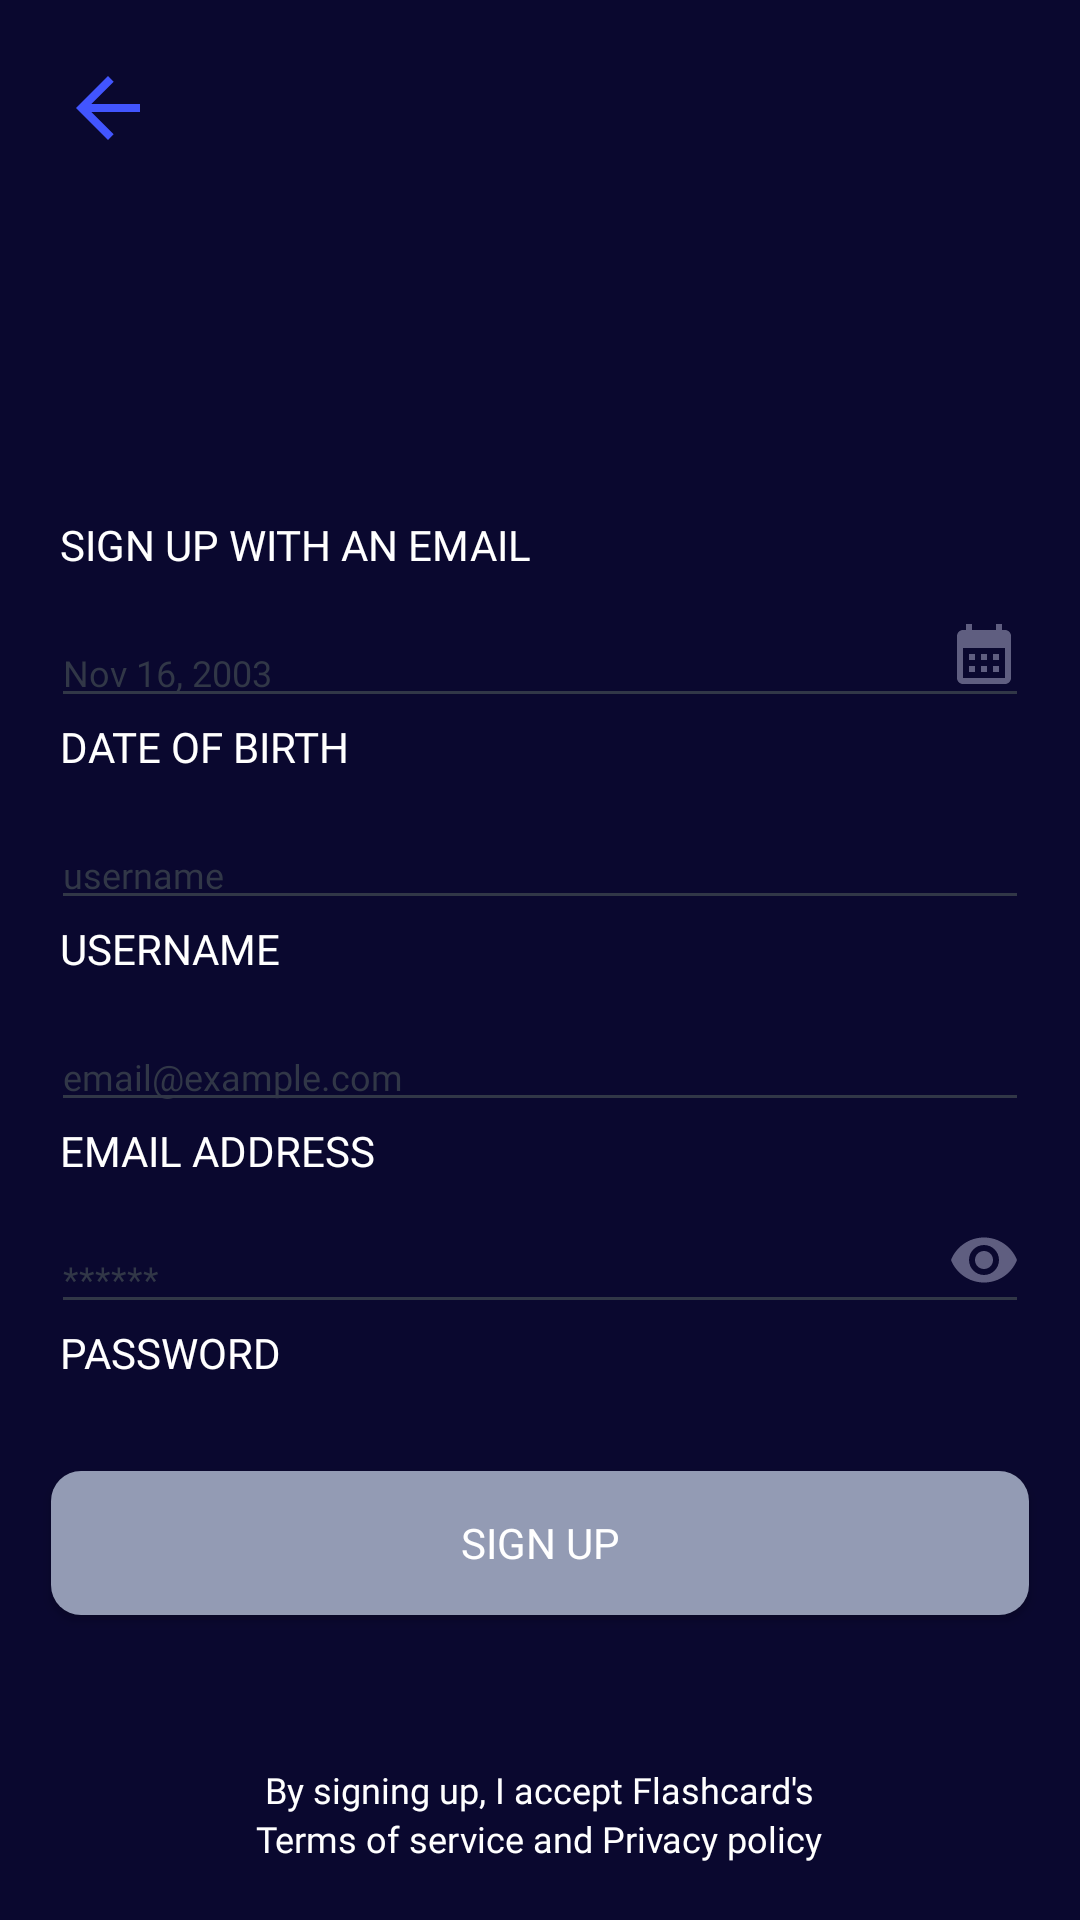

Where icons sit on this 1080×1920 app screen, as (x1, y1, x2, y2):
arrow back: (76, 76, 140, 140)
calendar month: (957, 624, 1011, 684)
